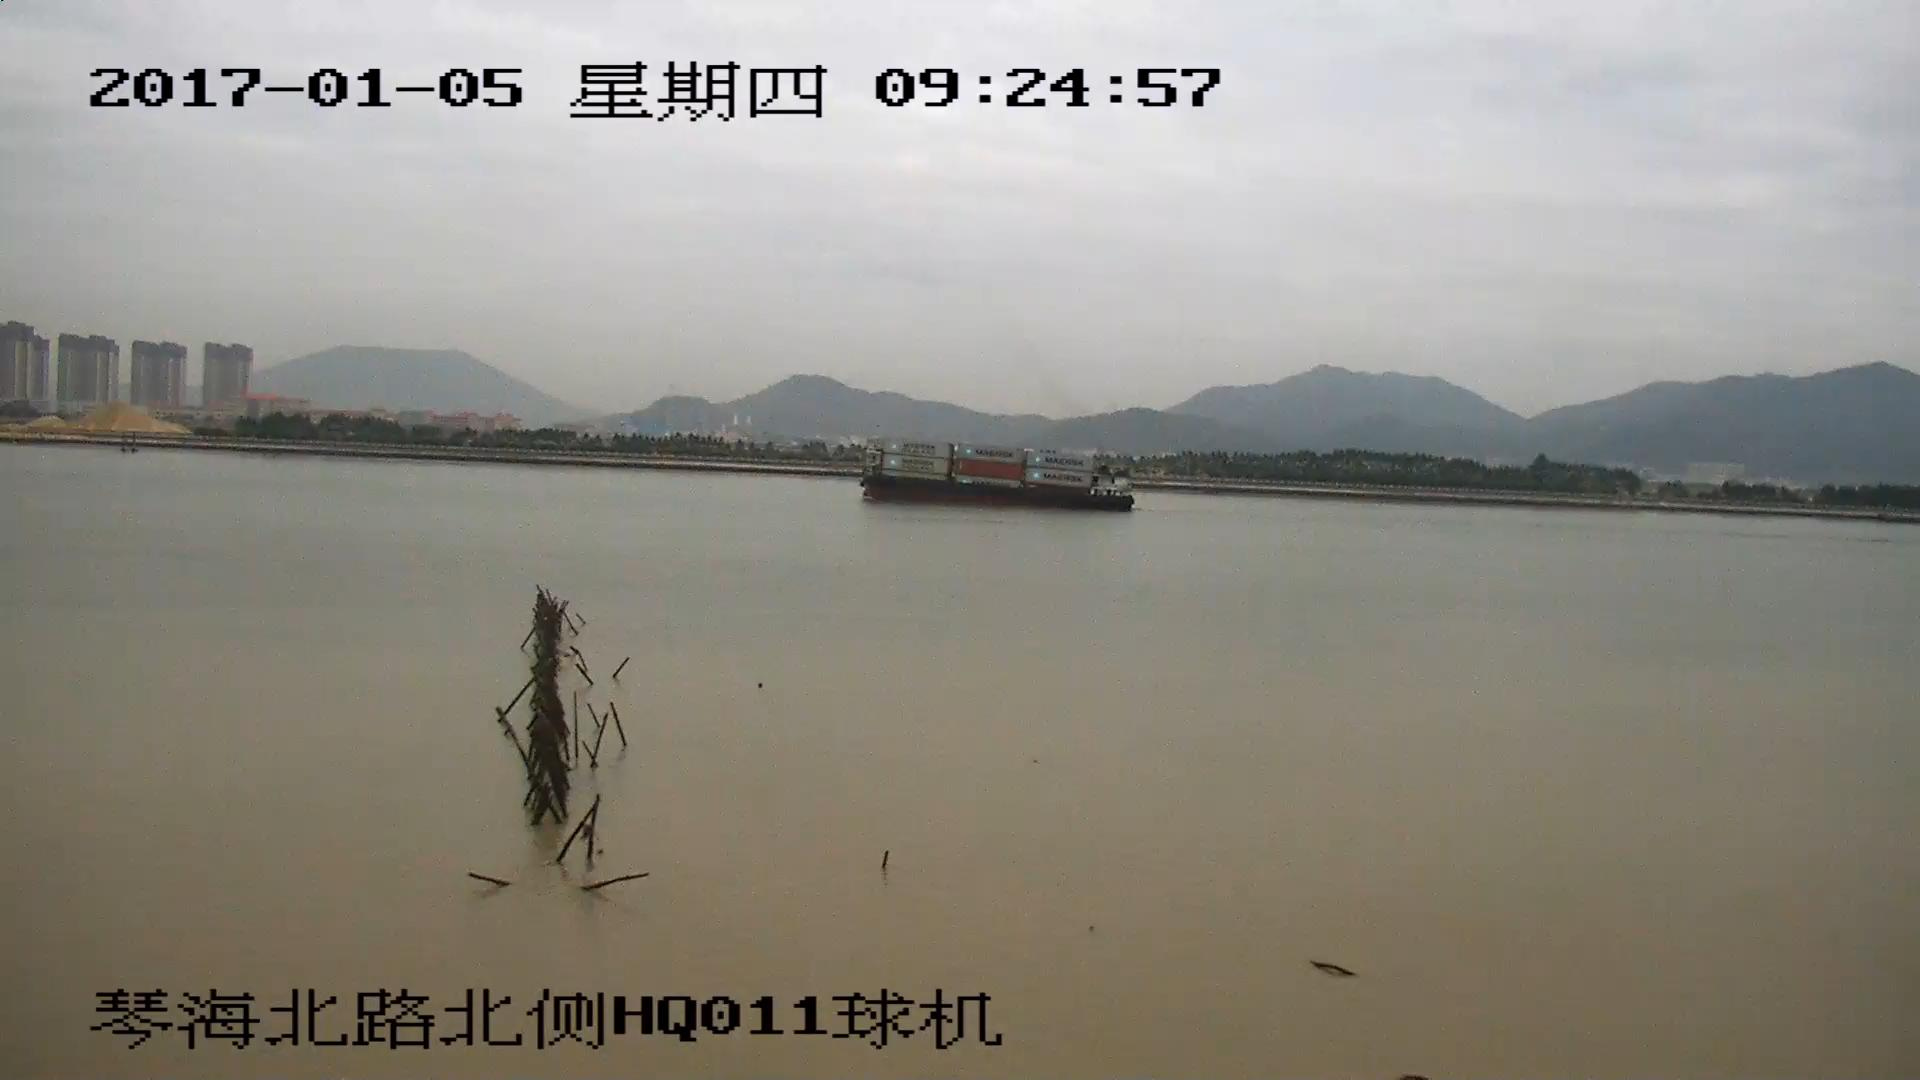container ship: (859, 440, 1133, 513)
